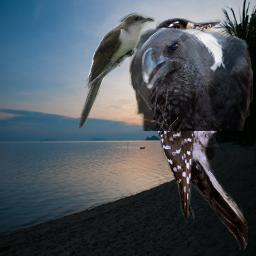Crow: (129, 27, 253, 131)
Cuckoo: (75, 12, 155, 131)
Woodpecker: (148, 18, 248, 250)
